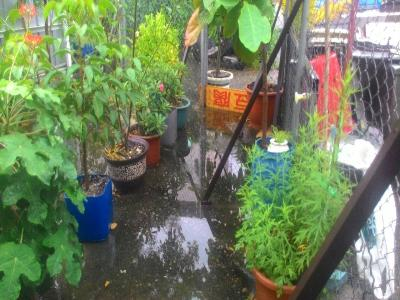bucket: (310, 53, 354, 136), (64, 174, 115, 240)
